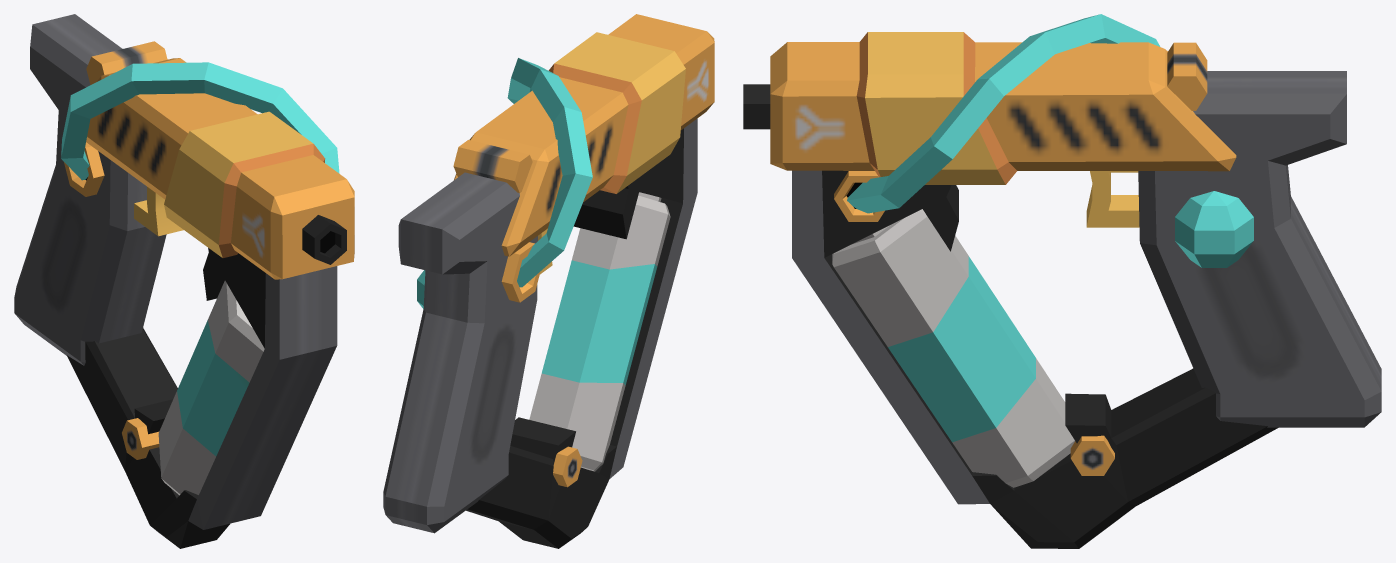
Rendered from SM_Wep_Paint_Gun_01.fbx.
3 views of the same model, side by side, from view 1: azimuth 30°, elevation 25°; view 2: azimuth 150°, elevation 25°; view 3: azimuth 270°, elevation 25° (orthographic). The views are drawn at different scales.
Parts seen in each view (by area): view 1: SM_Wep_Paint_Gun_01; view 2: SM_Wep_Paint_Gun_01; view 3: SM_Wep_Paint_Gun_01.
Part boxes in pixels (box(x1,y1,x2,y2)): SM_Wep_Paint_Gun_01: box(14, 14, 354, 548); SM_Wep_Paint_Gun_01: box(383, 14, 714, 548); SM_Wep_Paint_Gun_01: box(743, 14, 1381, 548).
Bounding box in the file's own units: 12.71 × 33.13 × 37.16.
